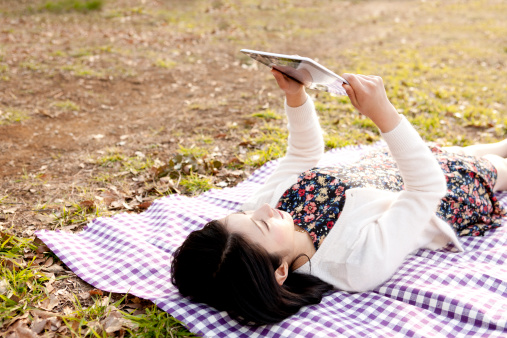deitado: (201, 41, 490, 324)
